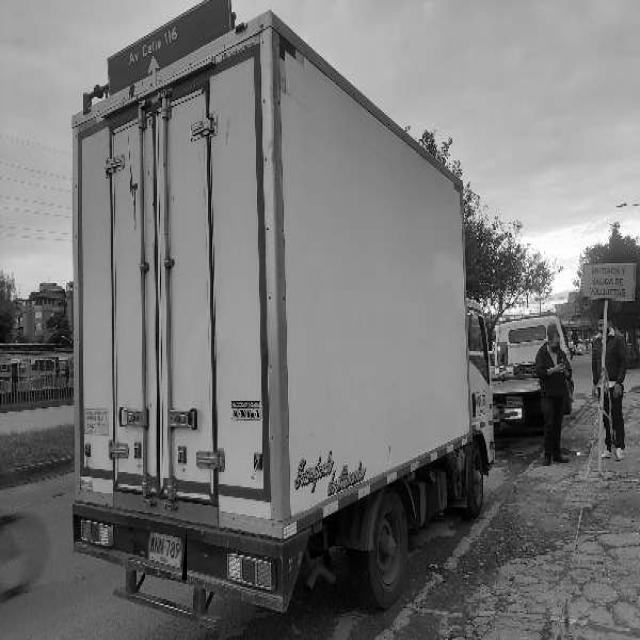plate: (145, 525, 187, 580)
